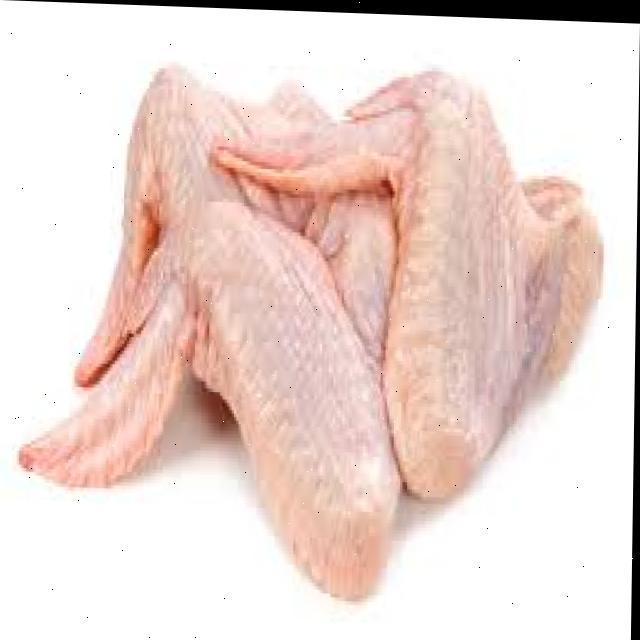wing: (236, 59, 595, 482), (29, 206, 402, 607), (79, 66, 378, 362)
